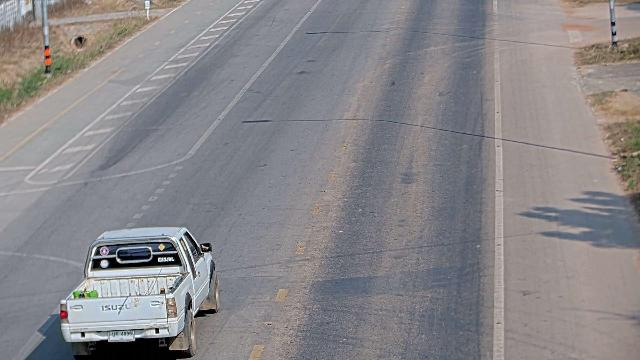pickup-truck: (58, 225, 221, 358)
